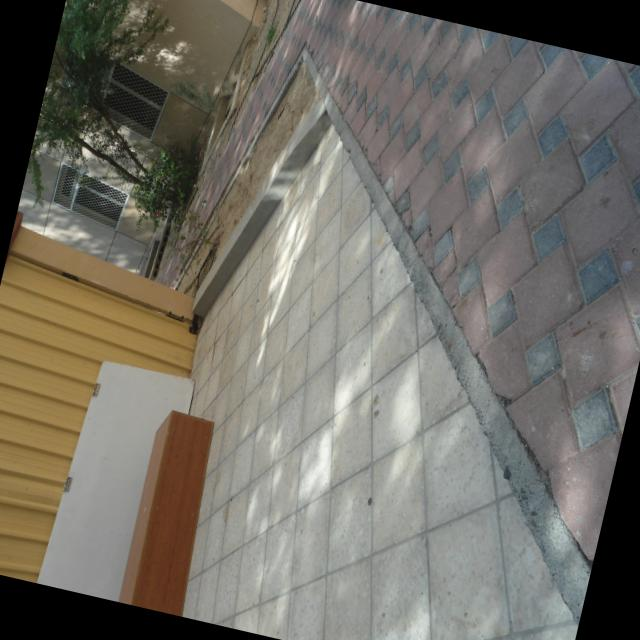obstacle: (37, 361, 193, 601), (119, 411, 213, 616)
path: (199, 0, 640, 560)
stairs: (260, 52, 536, 356)
tree-chair-bench-table-wall: (27, 0, 174, 227)
wall: (0, 227, 195, 581)
